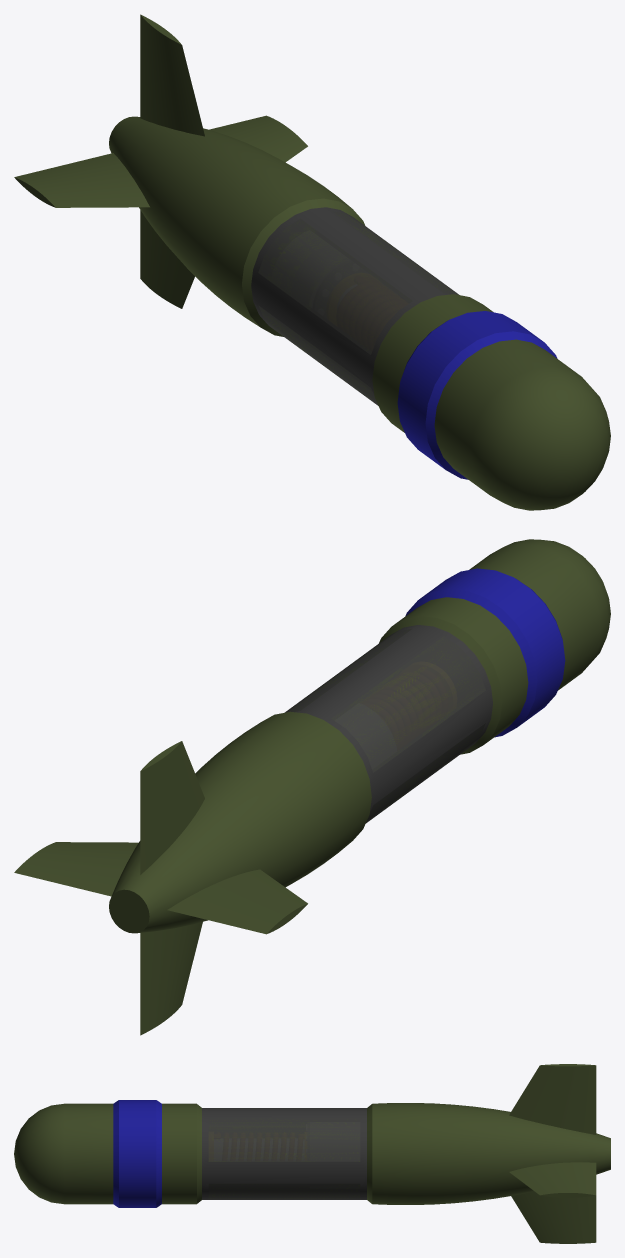
File: missile2.fbx
3 renders of one model, top to bottom at view 1: azimuth 30°, elevation 25°; view 2: azimuth 150°, elevation 25°; view 3: azimuth 270°, elevation 25°, orthographic. The views are drawn at different scales.
Visible parts, largest first — view 1: ID167, Componente_31, Componente_32 (×4), ID193, ID181, ID173, ID161, ID203, ID209; view 2: ID167, Componente_32 (×4), ID193, ID181, Componente_31, ID173, ID161, ID203, ID209; view 3: ID167, Componente_32 (×3), Componente_31, ID209, ID181, ID173, ID161, ID215.
Boxes of the visible parts, <box> form: ID167: <box>109,116,365,336</box>; Componente_31: <box>434,339,610,510</box>; Componente_32 (×4): <box>14,14,307,308</box>; ID193: <box>258,218,412,354</box>; ID181: <box>251,207,448,394</box>; ID173: <box>397,311,557,479</box>; ID161: <box>372,294,493,432</box>; ID203: <box>258,305,378,405</box>; ID209: <box>332,211,458,294</box>; ID167: <box>109,711,371,933</box>; Componente_32 (×4): <box>14,741,307,1035</box>; ID193: <box>331,636,485,772</box>; ID181: <box>295,625,492,811</box>; Componente_31: <box>469,539,610,690</box>; ID173: <box>405,568,565,737</box>; ID161: <box>379,597,528,754</box>; ID203: <box>366,723,485,823</box>; ID209: <box>285,628,412,712</box>; ID167: <box>367,1103,610,1204</box>; Componente_32 (×3): <box>509,1064,596,1243</box>; Componente_31: <box>14,1103,113,1204</box>; ID209: <box>208,1118,360,1161</box>; ID181: <box>202,1108,366,1199</box>; ID173: <box>113,1100,161,1207</box>; ID161: <box>162,1103,201,1204</box>; ID215: <box>208,1183,360,1199</box>.
Size of the model in its own units: 57.48 by 175 by 57.48.
